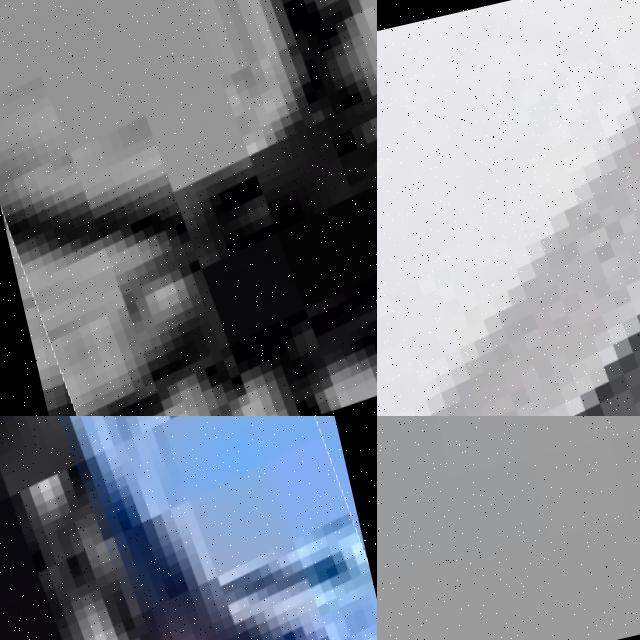drone: (0, 0, 377, 416), (377, 0, 640, 416), (0, 416, 377, 640)
